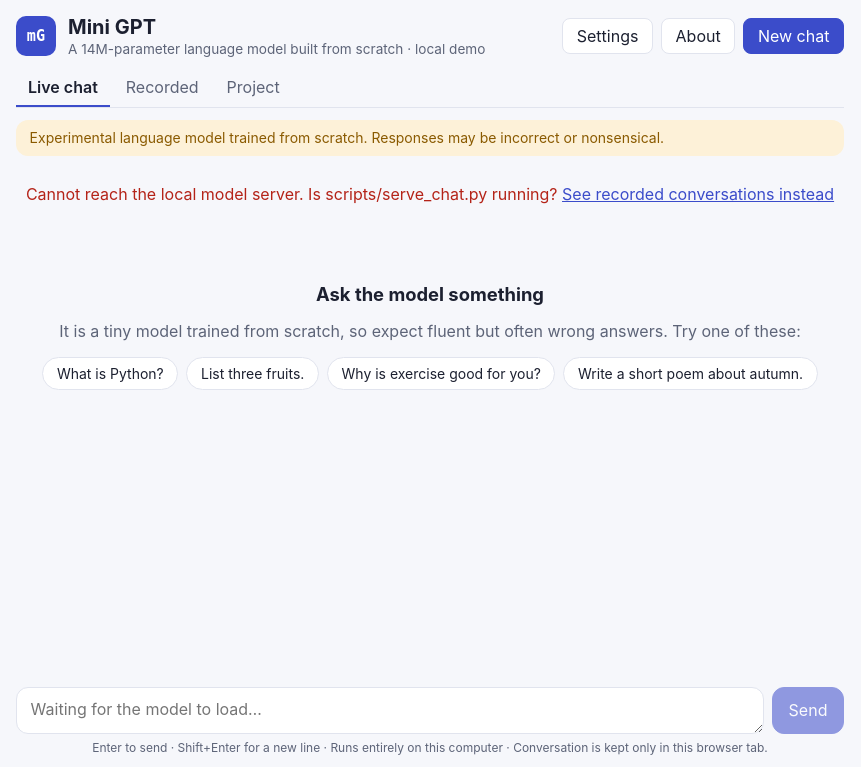
Test: showcase › offers the recorded conversations when the live server is unreachable
Click the button "See recorded conversations instead" at (698, 194), box [562,184,834,204]
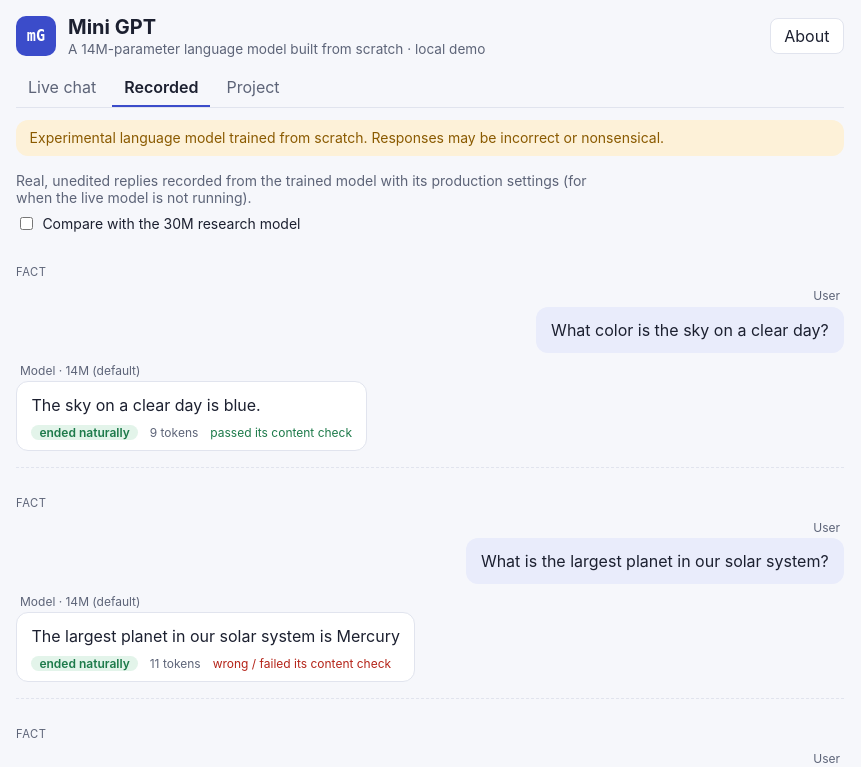
Now the 1st list item with test id "recorded-item" is shown, box [16,253,844,468]
